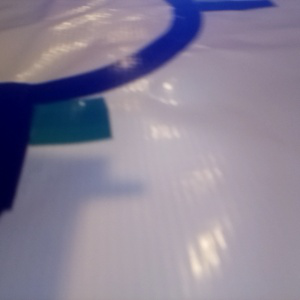bottom_right: (1, 84, 111, 145)
